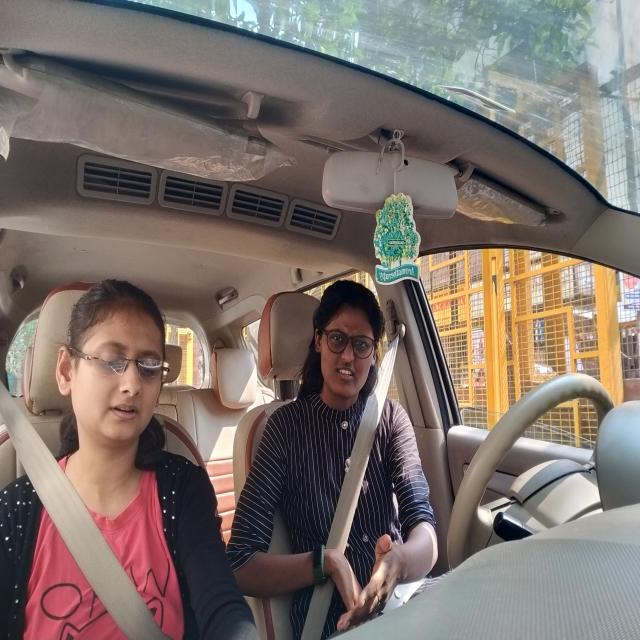person: (59, 277, 182, 475), (305, 264, 386, 432)
